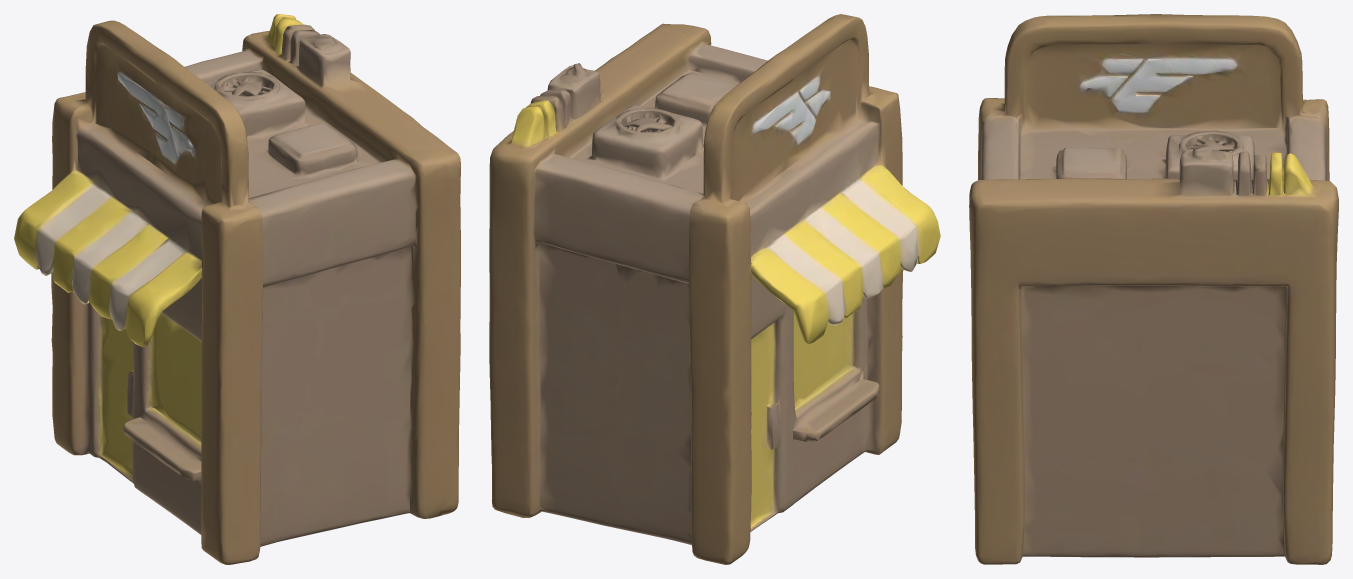
Rendered from market-2.glb.
The picture shows the model from 3 angles, left to right: view 1: azimuth 30°, elevation 25°; view 2: azimuth 150°, elevation 25°; view 3: azimuth 270°, elevation 25°; orthographic projection.
Visible parts, largest first — view 1: tripo_node_3ae1ef02-e687-4e4f-9661-4b38957c71d7; view 2: tripo_node_3ae1ef02-e687-4e4f-9661-4b38957c71d7; view 3: tripo_node_3ae1ef02-e687-4e4f-9661-4b38957c71d7.
Boxes of the visible parts, x1,y1,x2,y2 form: tripo_node_3ae1ef02-e687-4e4f-9661-4b38957c71d7: (14, 14, 460, 564); tripo_node_3ae1ef02-e687-4e4f-9661-4b38957c71d7: (489, 14, 940, 564); tripo_node_3ae1ef02-e687-4e4f-9661-4b38957c71d7: (969, 14, 1338, 564).
Bounding box in the file's own units: 0.7174 × 1 × 0.749.
1 material, 1 textured.
